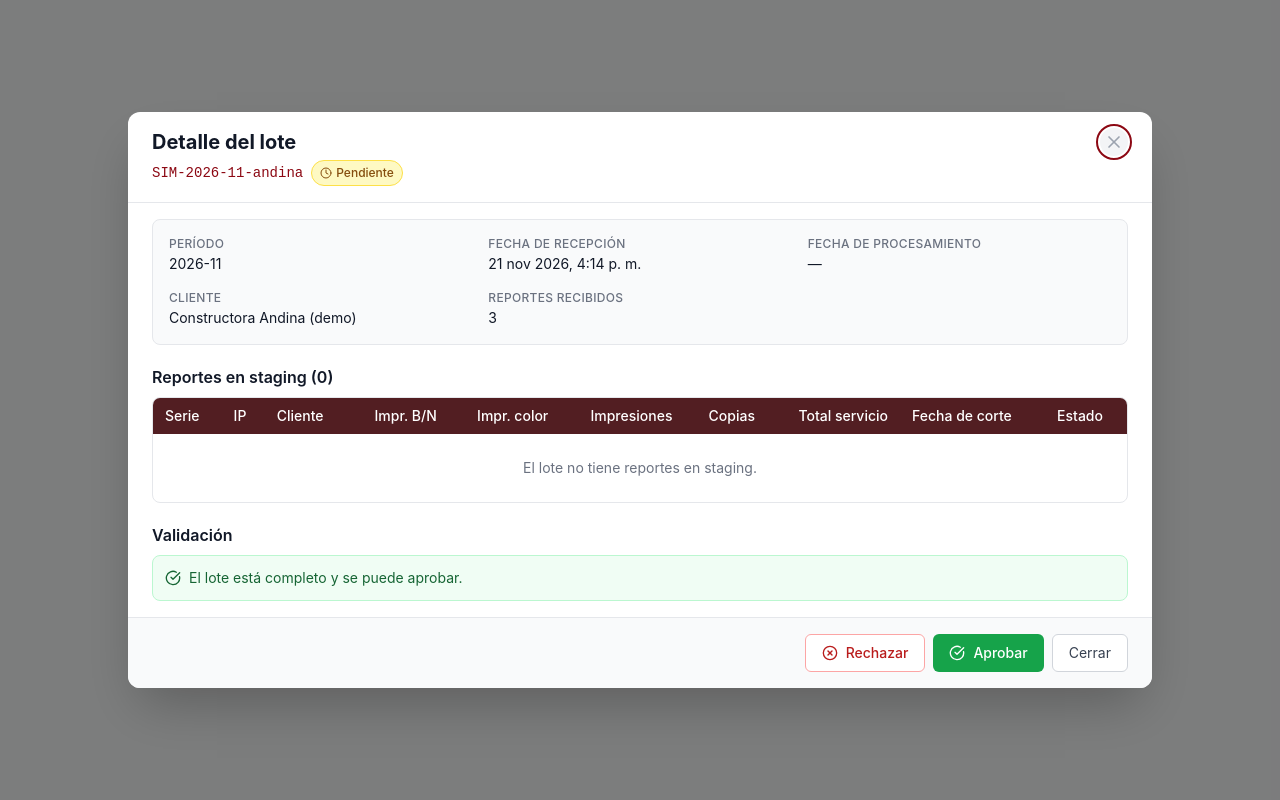
Test case: DetalleLoteModal · aprobar › un lote con período se aprueba con ese período: no deja elegir otro mes
Later steps or results of the test are not shown.
Click the button "Aprobar". click: click(989, 653)
box: [933,634,1044,672]
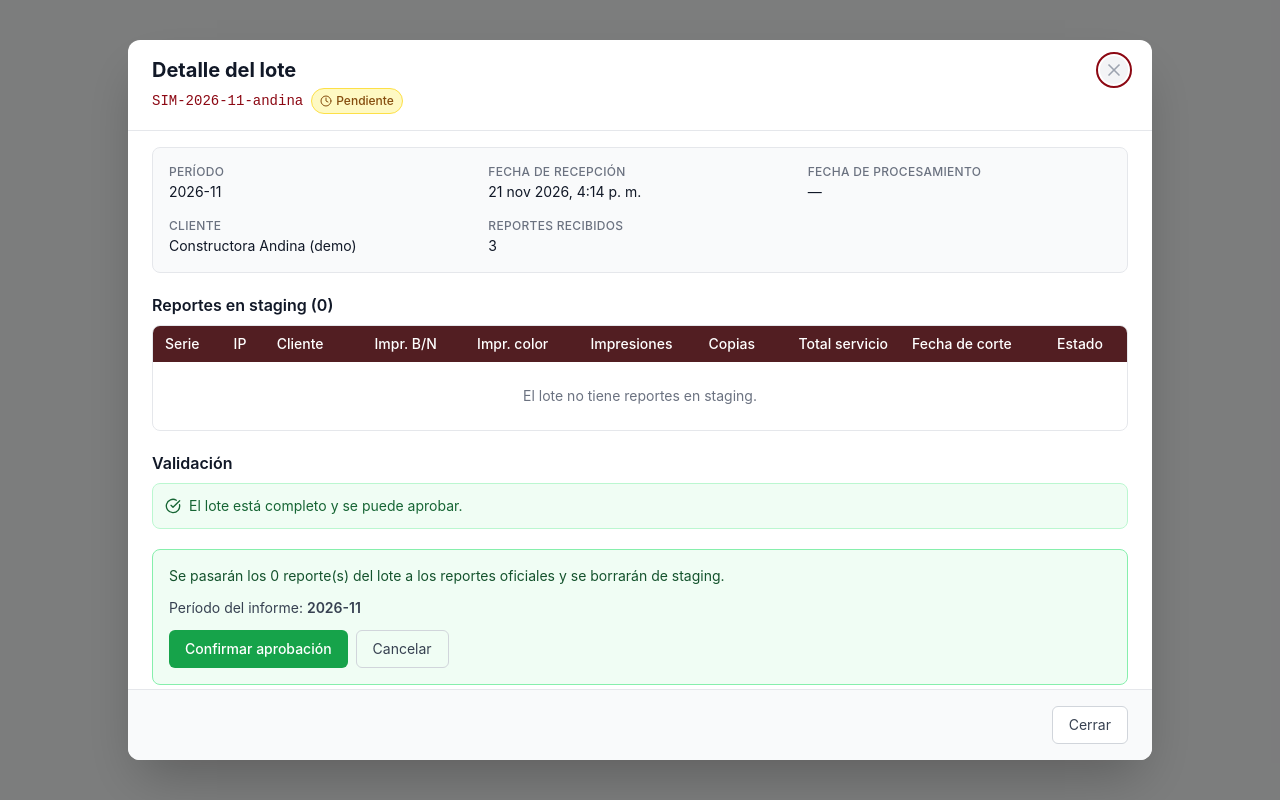
Expected: the element with test id "periodo-lote" shows "2026-11", [307,599,361,616]
